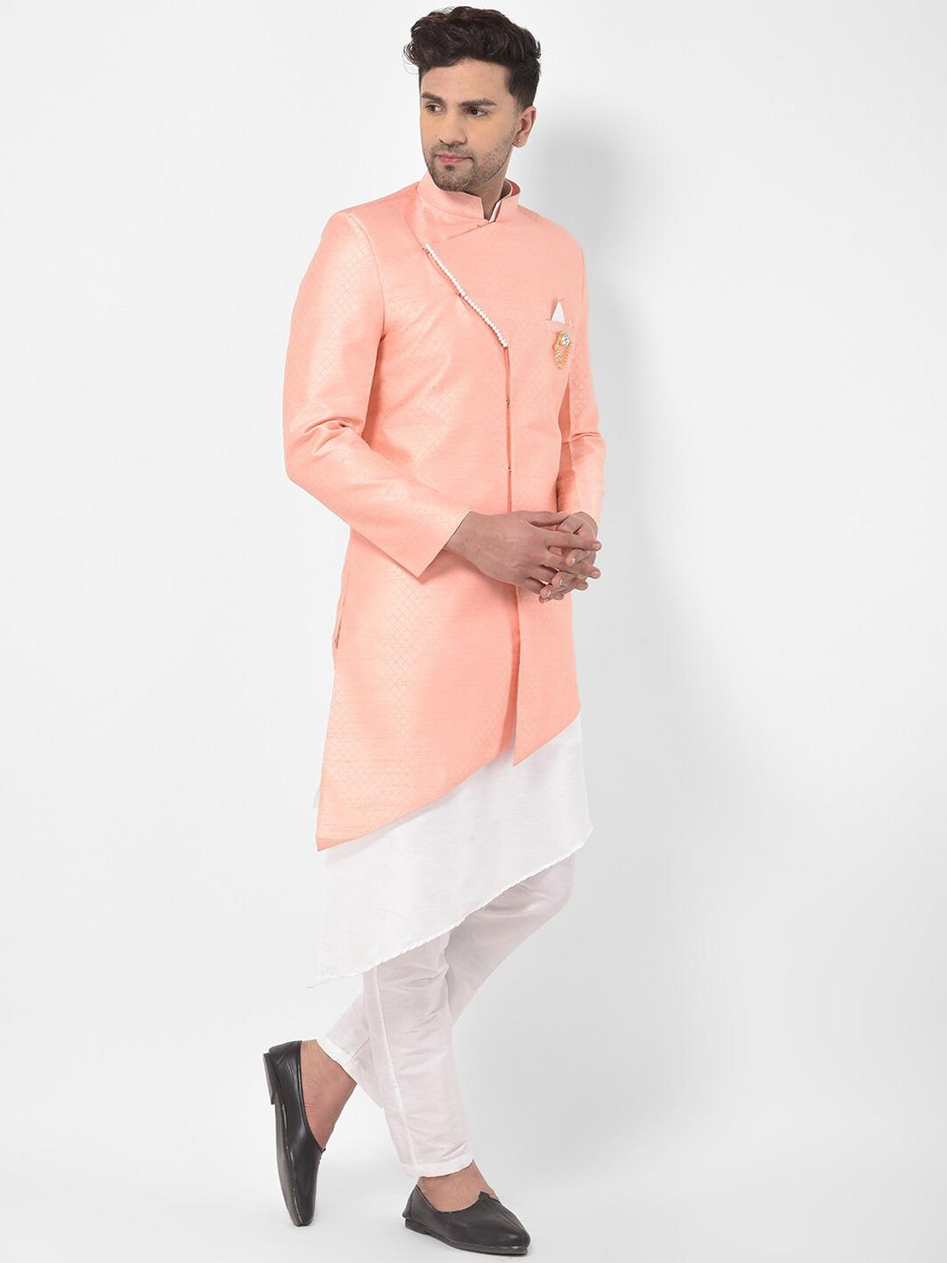Plain Sherwani: (277, 169, 611, 857)
